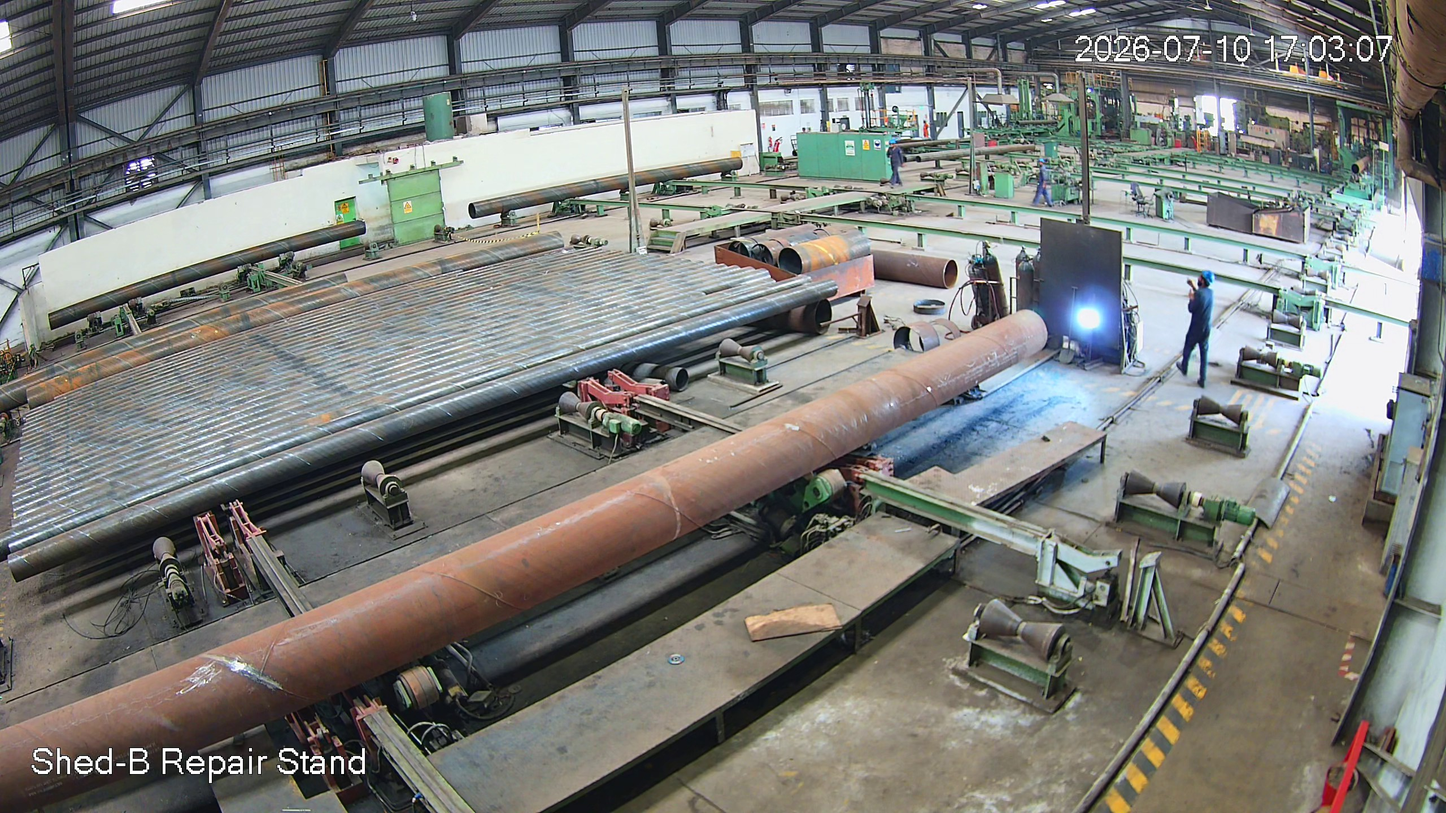Helmet: (1193, 265, 1218, 293)
Person: (1176, 269, 1220, 390)
